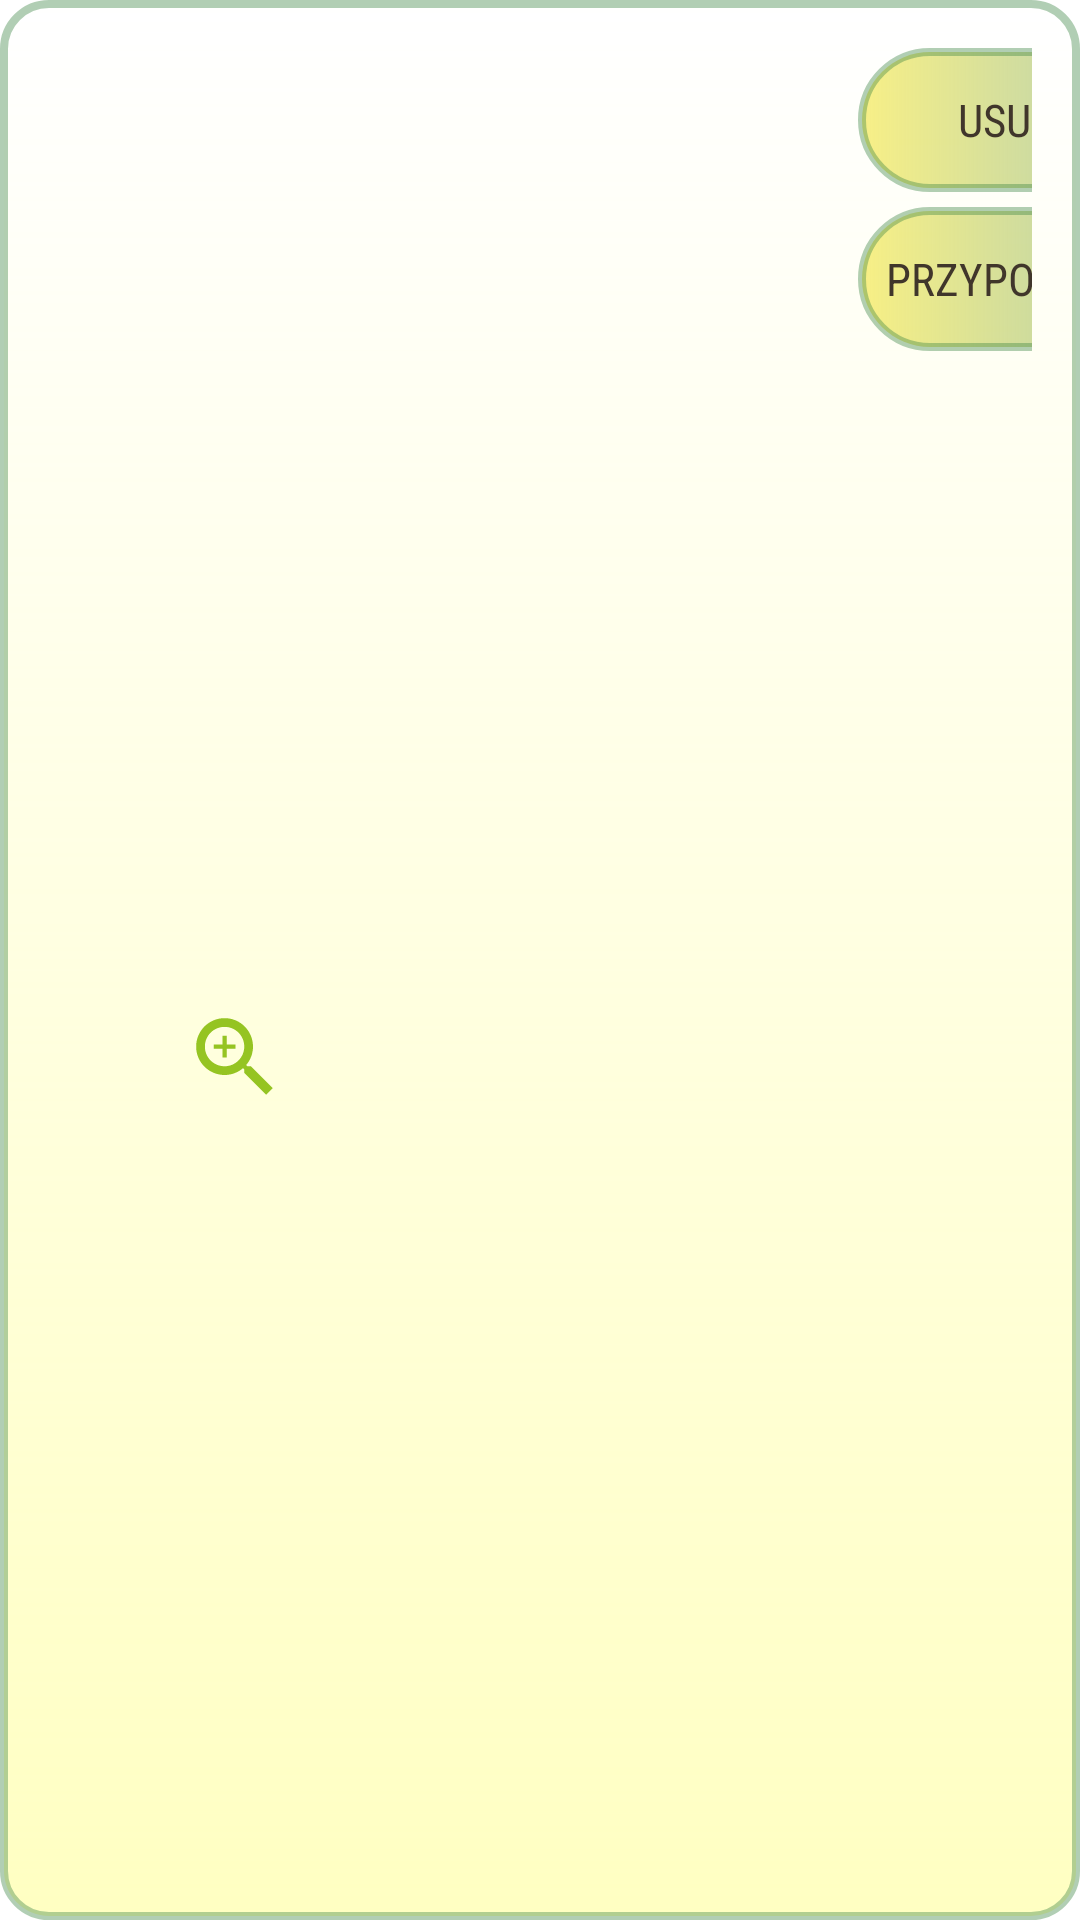

Screen size 1080*1920. Icon name, then its center in pixels as (x,y):
zoom: (234,1056)
